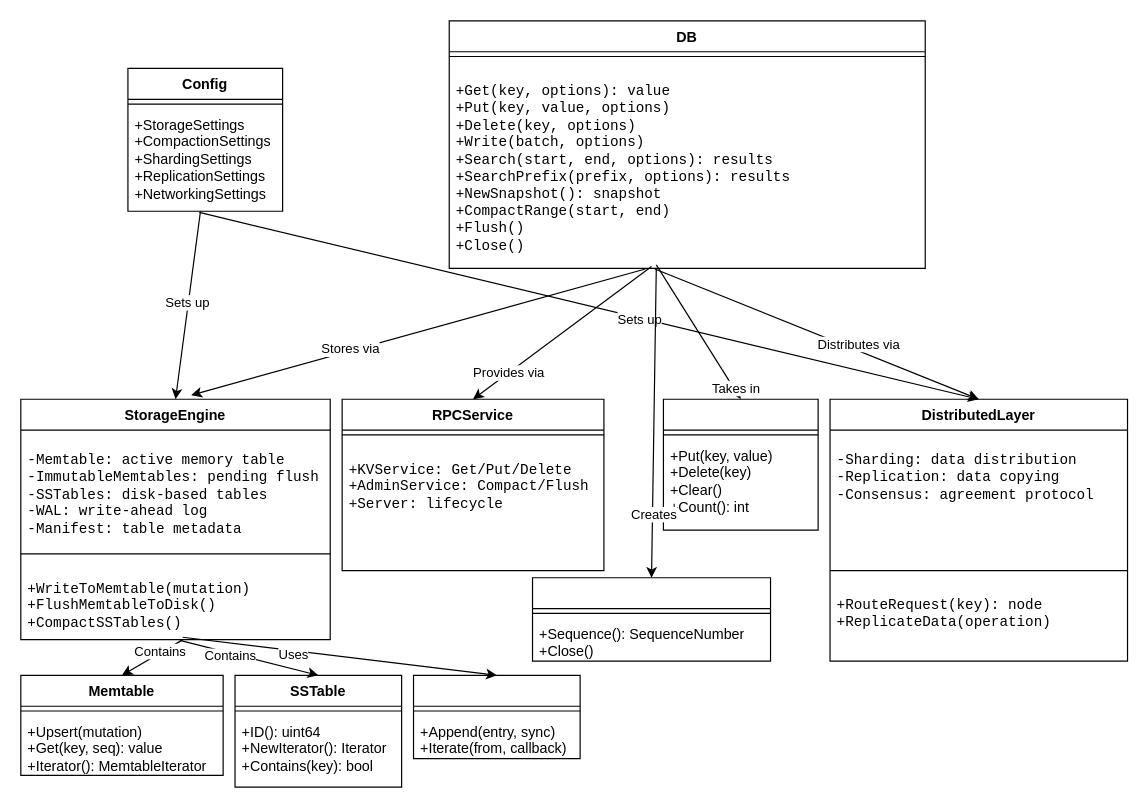
Image size: 1148x812. Some labels were removed from this diagram. Each missing label, with the box of its shape:
Shapshot: (531, 577, 771, 661)
WAL: (412, 674, 580, 759)
WriteBatch: (662, 398, 818, 530)
